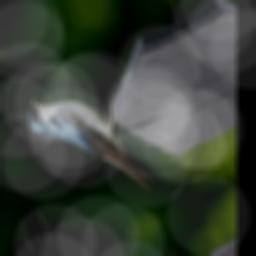Swallow: (22, 57, 159, 233)
